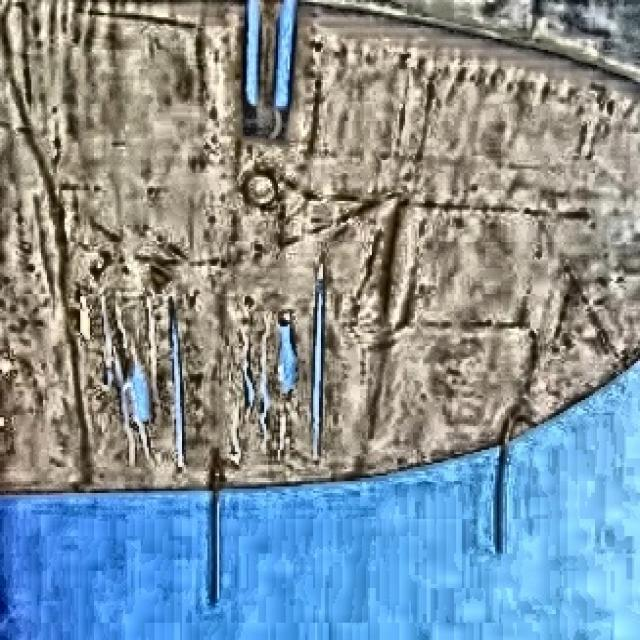crack: (76, 250, 344, 475)
